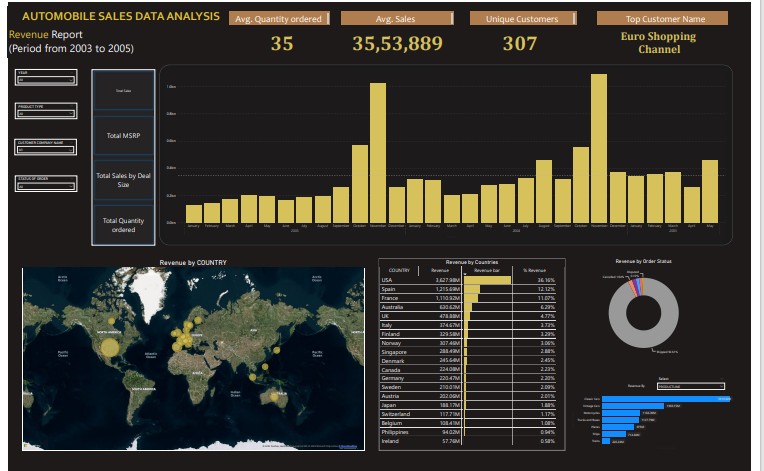

The dashboard page shown, as its layout file describes it:
{"tool":"powerbi","page":{"name":"Page 1","canvas":[3000,2000],"ordinal":0},"visuals":[{"type":"textbox","box":[0,0,895,72.5],"z":0},{"type":"textbox","box":[0,72.5,557.5,130],"z":1000},{"type":"textbox","box":[895,17.5,407.5,55],"z":2000},{"type":"card","fields":{"Values":["Avg(sales_data_sample.QUANTITYORDERED)"]},"box":[895,72.5,427.5,130],"z":3000},{"type":"card","fields":{"Values":["Avg(sales_data_sample.SALES)"]},"box":[1347.5,72.5,455,130],"z":4000},{"type":"textbox","box":[1347.5,17.5,455,55],"z":5000},{"type":"card","fields":{"Values":["Count(sales_data_sample.ORDERNUMBER)"]},"box":[1842.5,72.5,455,130],"z":6000},{"type":"textbox","box":[1867.5,17.5,430,55],"z":7000},{"type":"shape","box":[612.5,232.5,2317.5,730],"z":8000},{"type":"clusteredColumnChart","fields":{"Category":["sales_data_sample.ORDERDATE.Variation.Date Hierarchy.Year","sales_data_sample.ORDERDATE.Variation.Date Hierarchy.Month"],"Y":["Sum(sales_data_sample.SALES)"]},"box":[637.5,252.5,2267.5,690],"z":10000},{"type":"bookmarkNavigator","box":[340,252.5,255,710],"z":13000},{"type":"slicer","fields":{"Values":["sales_data_sample.YEAR_ID"]},"box":[30,252.2,250,63.3],"z":14000},{"type":"slicer","fields":{"Values":["sales_data_sample.PRODUCTLINE"]},"box":[30,388,250,64],"z":15000},{"type":"slicer","fields":{"Values":["sales_data_sample.CUSTOMERNAME"]},"box":[28,534,250,64],"z":16000},{"type":"slicer","fields":{"Values":["sales_data_sample.STATUS"]},"box":[30,682,250,64],"z":17000},{"type":"map","title":"Revenue by COUNTRY","fields":{"Size":["Sum(sales_data_sample.SALES)"],"Category":["sales_data_sample.COUNTRY"]},"box":[58.3,1016.7,1383.3,775],"z":18000},{"type":"pivotTable","title":"Revenue by Countries","fields":{"Rows":["sales_data_sample.COUNTRY"],"Values":["Sum(sales_data_sample.SALES)","Sum(sales_data_sample.sales 2)","Sum(sales_data_sample.sales 3)"]},"box":[1500,1016.7,751.7,775],"z":19000},{"type":"donutChart","title":"Revenue by Order Status ","fields":{"Y":["Sum(sales_data_sample.SALES)"],"Category":["sales_data_sample.STATUS"]},"box":[2276.7,1016.7,585,415],"z":20000},{"type":"barChart","title":"Top Sales by Customers ","fields":{"Category":["sales_data_sample.PRODUCTLINE"],"Y":["Sum(sales_data_sample.SALES)"]},"box":[2273.3,1546.7,658.3,245],"z":21000},{"type":"slicer","fields":{"Values":["Parameter.Parameter"]},"box":[2615,1486.7,291.7,60],"z":22000},{"type":"textbox","box":[2297.1,1517.1,295.7,40],"z":23000},{"type":"card","fields":{"Values":["Min(sales_data_sample.CUSTOMERNAME)"]},"box":[2406,72,456,130],"z":24000},{"type":"textbox","box":[2380,18,528,56],"z":25000}]}

Visuals, with their boxes on the page's 3000x2000 design canvas (x1, y1, x2, y2). These are canvas units, not pixel positions in the 764x471 screenshot, which may show the page scaled, cropped or inside an application window:
textbox: 0:0:895:72
textbox: 0:72:558:202
textbox: 895:18:1302:72
card - Avg(sales_data_sample.QUANTITYORDERED): 895:72:1322:202
card - Avg(sales_data_sample.SALES): 1348:72:1802:202
textbox: 1348:18:1802:72
card - Count(sales_data_sample.ORDERNUMBER): 1842:72:2298:202
textbox: 1868:18:2298:72
shape: 612:232:2930:962
clusteredColumnChart - sales_data_sample.ORDERDATE.Variation.Date Hierarchy.Year x sales_data_sample.ORDERDATE.Variation.Date Hierarchy.Month: 638:252:2905:942
bookmarkNavigator: 340:252:595:962
slicer - sales_data_sample.YEAR_ID: 30:252:280:316
slicer - sales_data_sample.PRODUCTLINE: 30:388:280:452
slicer - sales_data_sample.CUSTOMERNAME: 28:534:278:598
slicer - sales_data_sample.STATUS: 30:682:280:746
"Revenue by COUNTRY" map: 58:1017:1442:1792
"Revenue by Countries" pivotTable: 1500:1017:2252:1792
"Revenue by Order Status " donutChart: 2277:1017:2862:1432
"Top Sales by Customers " barChart: 2273:1547:2932:1792
slicer - Parameter.Parameter: 2615:1487:2907:1547
textbox: 2297:1517:2593:1557
card - Min(sales_data_sample.CUSTOMERNAME): 2406:72:2862:202
textbox: 2380:18:2908:74
